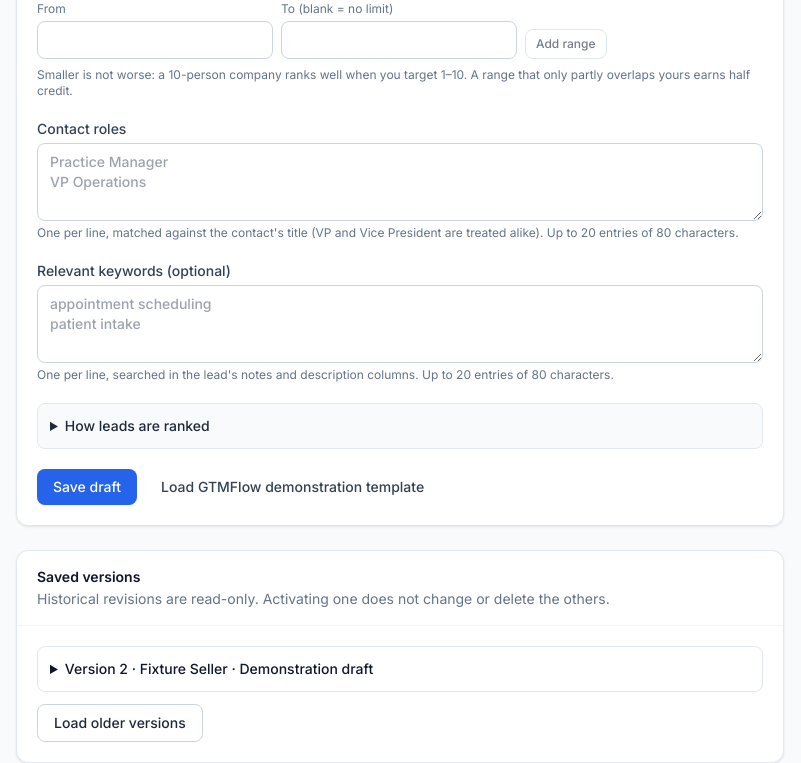
Test: seller profile drafts › shows historical drafts and preserves them when loading older versions fails
(page scrolled)
What coordinates should you click on to do the following:
click the button "Load older versions"
I would click on:
 (120, 722)
Its box is x1=37 y1=704 x2=203 y2=742.
(page scrolled)
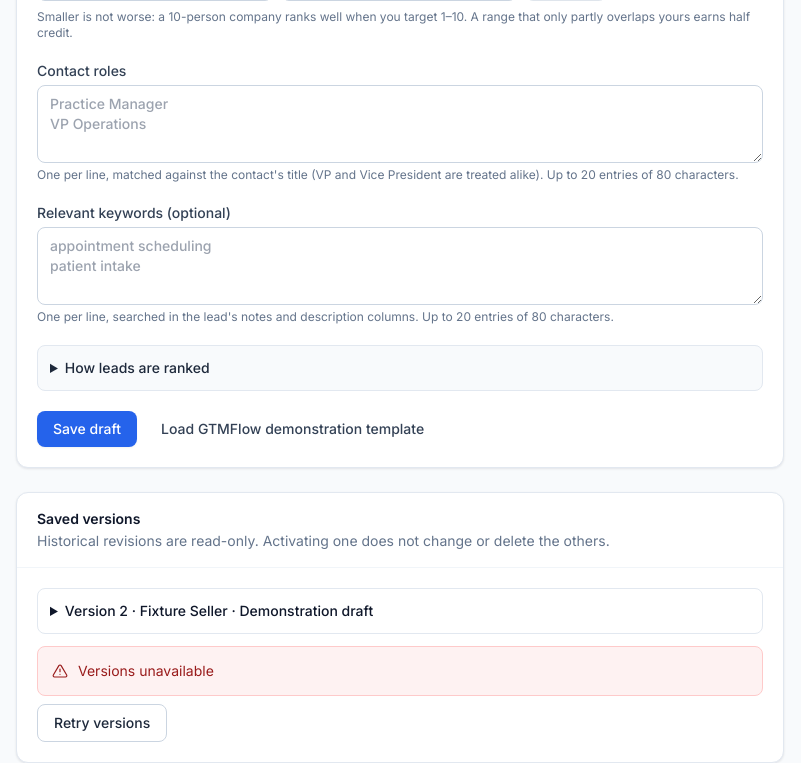
Expected: the heading "Version 2 · Fixture Seller · Demonstration draft" is shown, x1=65 y1=602 x2=373 y2=618
Expected: the text "Versions unavailable" is shown, x1=78 y1=660 x2=214 y2=680
What coordinates should you click on to do the following:
click the button "Retry versions"
I would click on:
 (102, 722)
Its box is x1=37 y1=704 x2=167 y2=742.
(page scrolled)
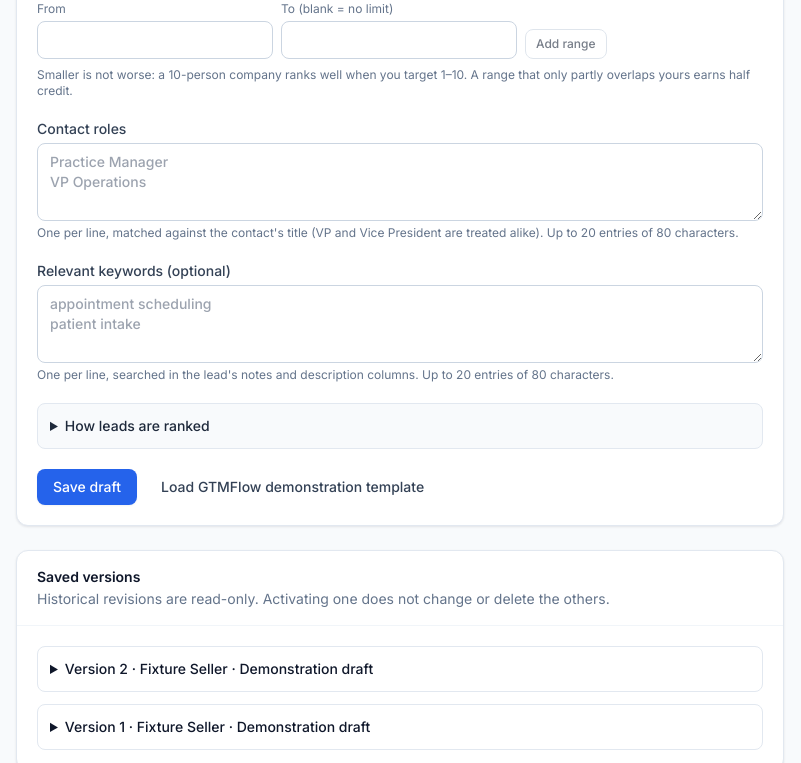
Expected: the button "Load older versions" is not shown
Expected: the heading "Version 1 · Fixture Seller · Demonstration draft" is shown, x1=65 y1=718 x2=370 y2=734
